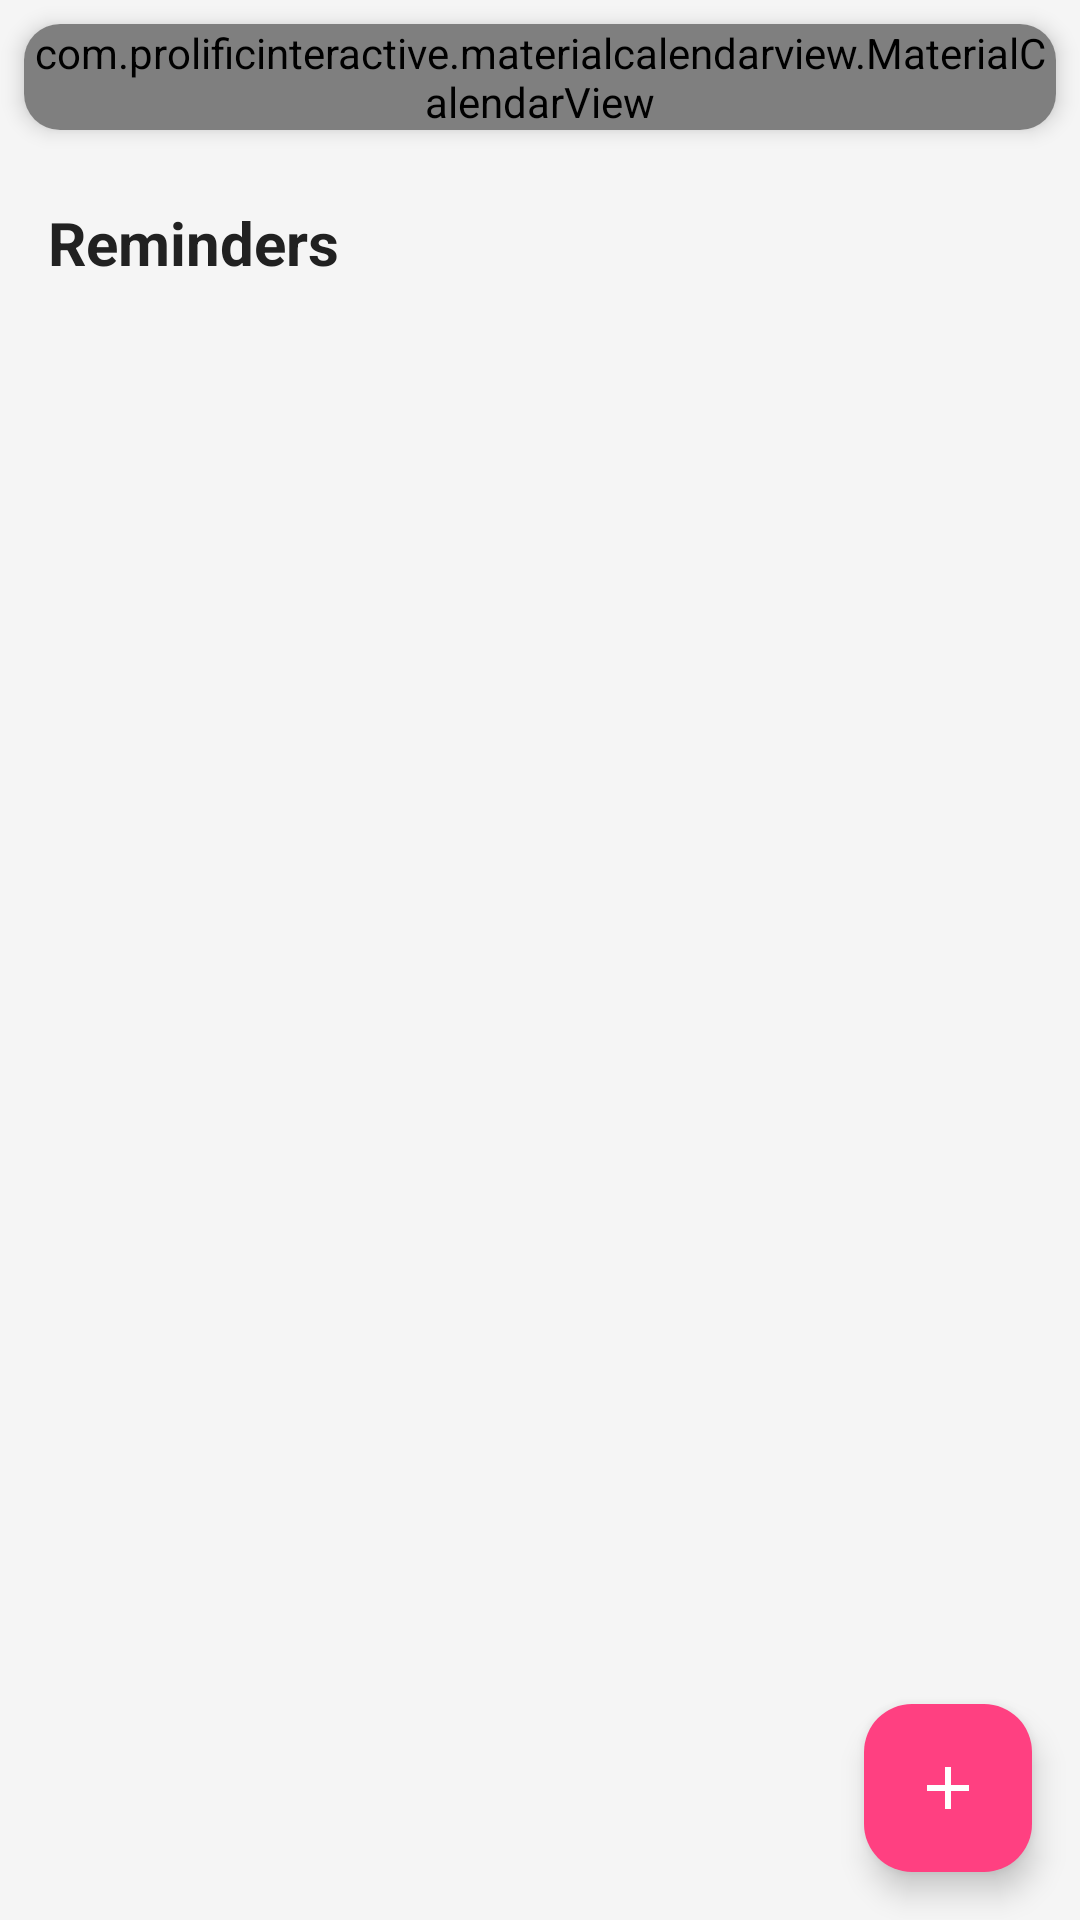

Screen size 1080w x 1920h. Icon name, then its box in pixels as (x1, y1, x2, y2):
Add Reminder: (864, 1704, 1032, 1872)
